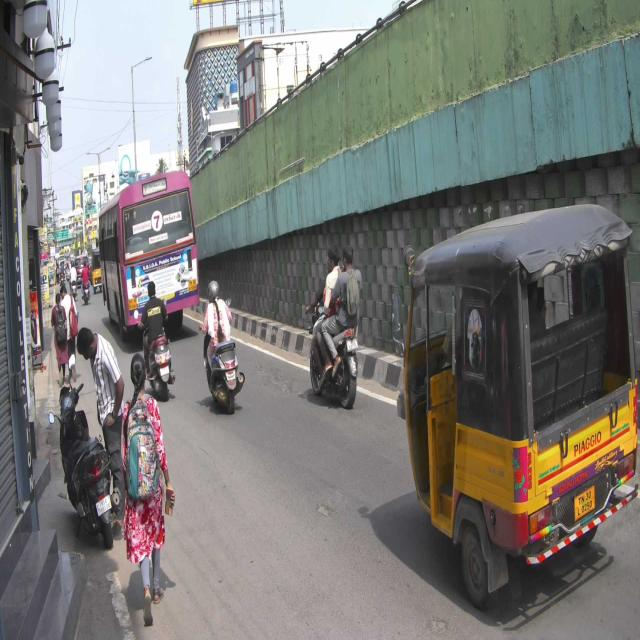single_rider: (197, 278, 245, 409)
triple_rider: (304, 243, 364, 407)
